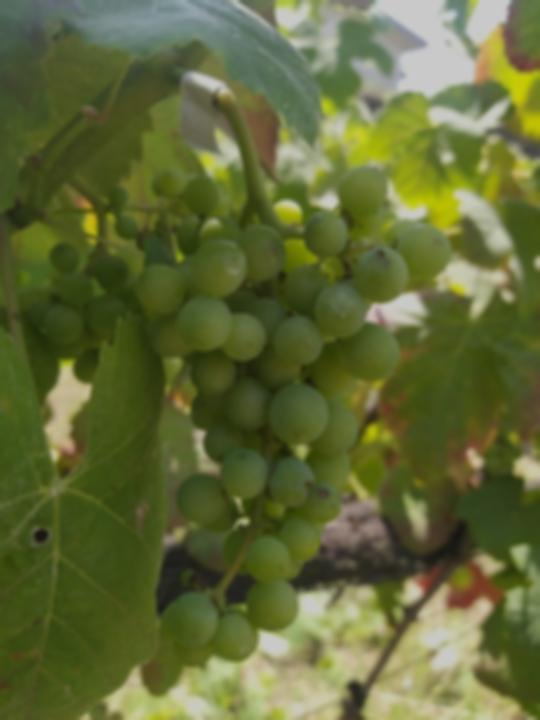grape: (135, 160, 460, 671)
